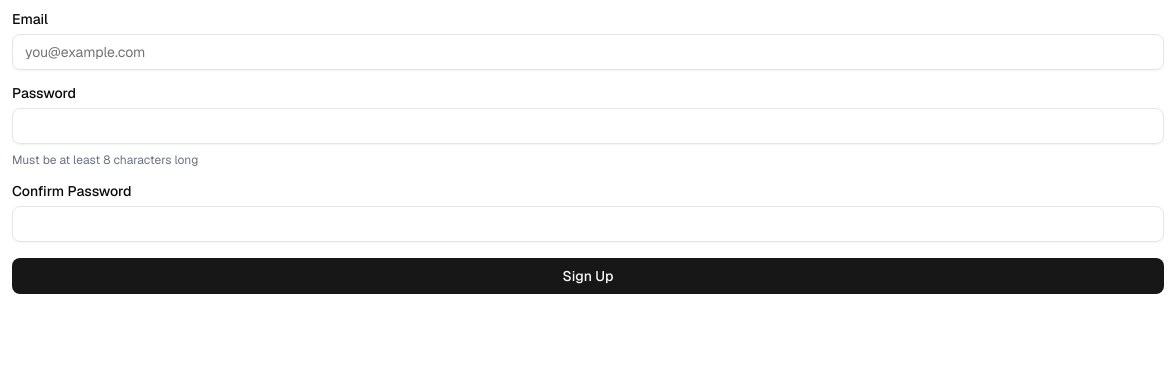
it: SignUpForm › displays error message when sign up fails
Step 1. Type "existing@example.com" into the field labelled "Email" → {"x": 588, "y": 52}, box [12, 34, 1164, 70]
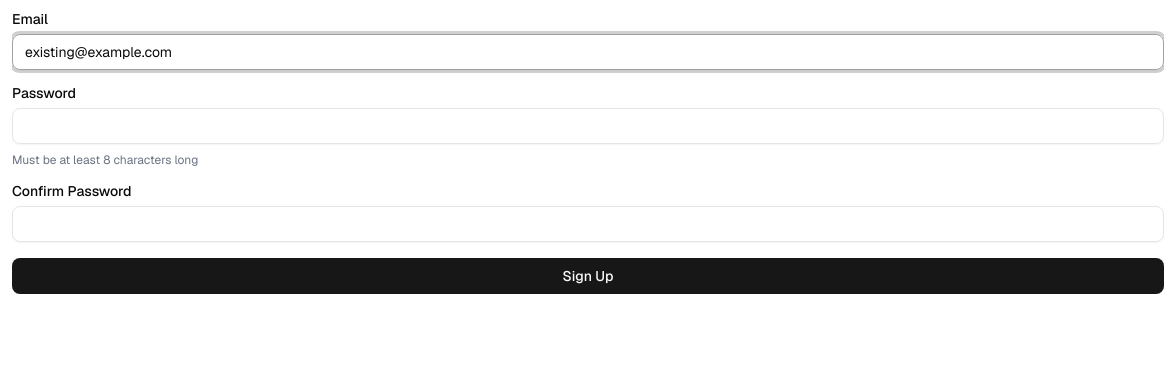
Step 2. Type "password123" into the password field labelled "Password" → {"x": 588, "y": 126}, box [12, 108, 1164, 144]
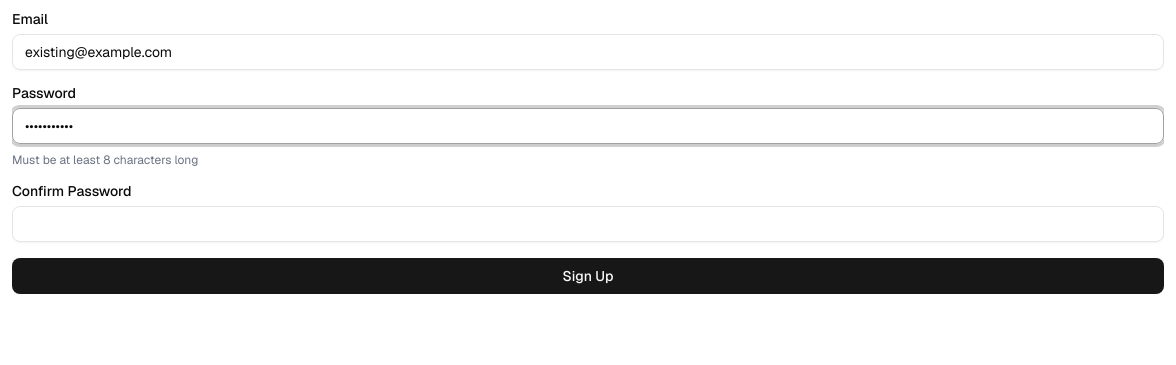
Step 3. Type "password123" into the password field labelled "Confirm Password" → {"x": 588, "y": 224}, box [12, 206, 1164, 242]
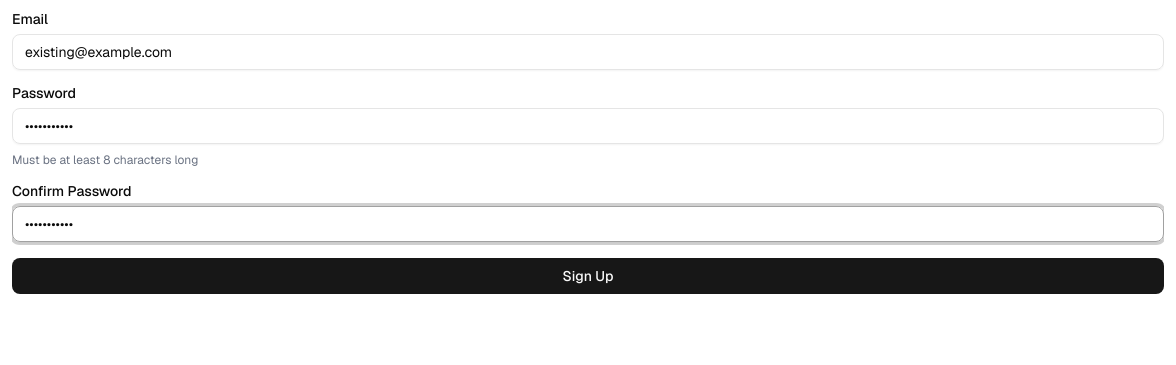
Step 4. Submit the form from the button "Sign Up", box [12, 258, 1164, 294]
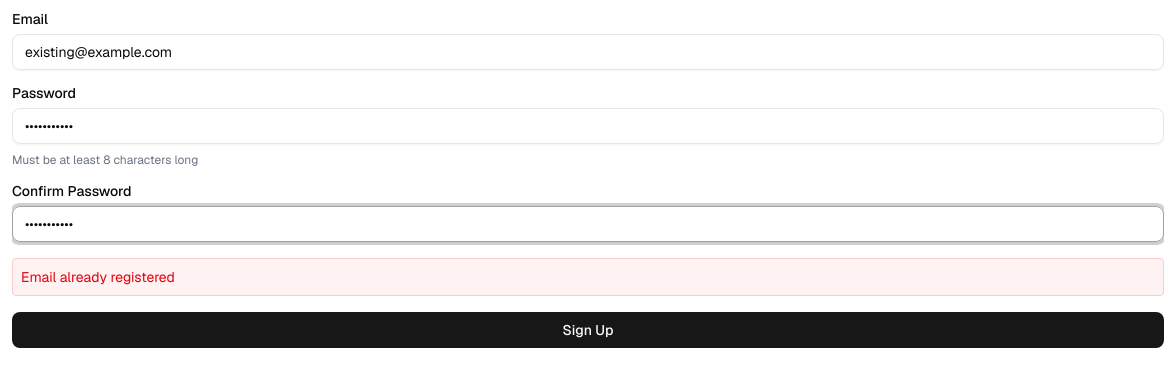
Result: the text "Email already registered" is shown at [12, 258, 1164, 296]
